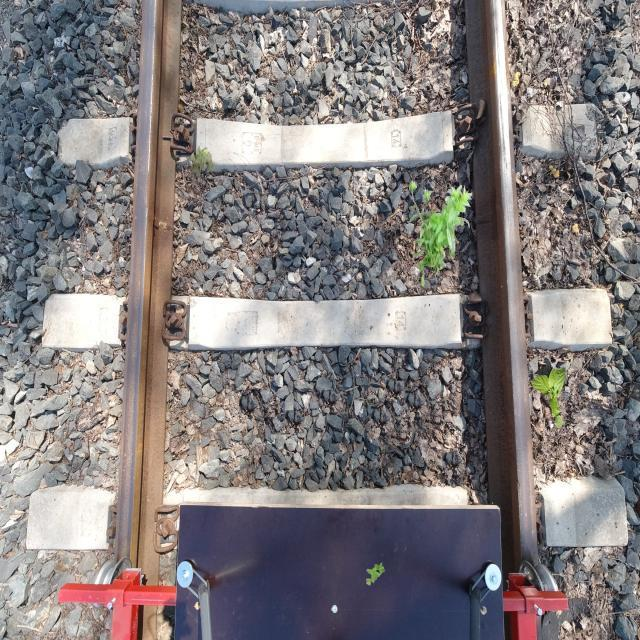Plant: (408, 179, 472, 286), (530, 366, 566, 428), (190, 146, 216, 178), (366, 561, 386, 586)
